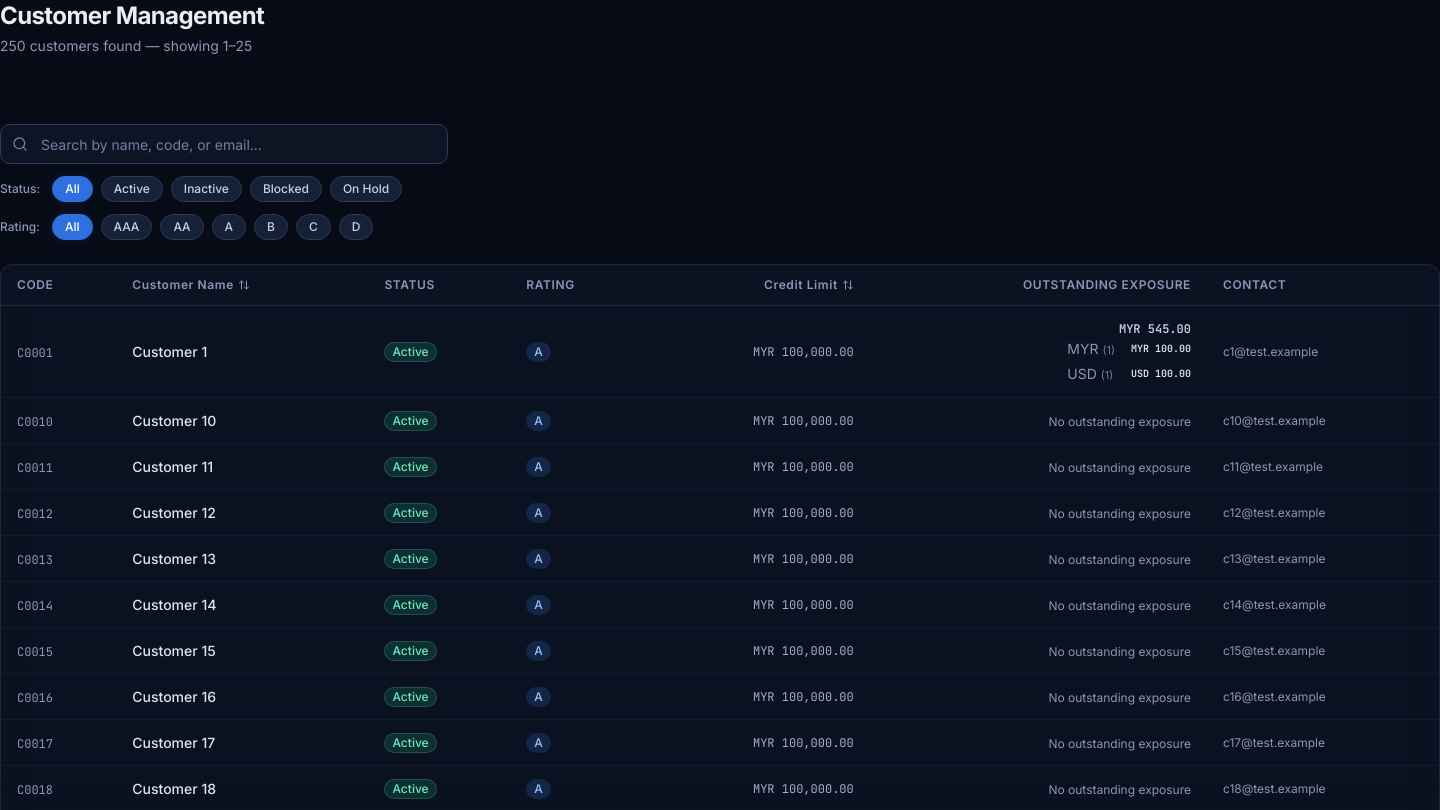
Test case: Customer list — stale-filter safety (B9DD-FR-001) › shows the new authoritative result once the refetch settles
Expected: the link "Customer 1" is shown, [132, 342, 207, 360]
Expected: the text "MYR 545.00" is shown, [1119, 321, 1191, 337]
Type "Zeta" into the field with placeholder "Search by name, code, or email…" at (224, 144), box [0, 124, 448, 164]
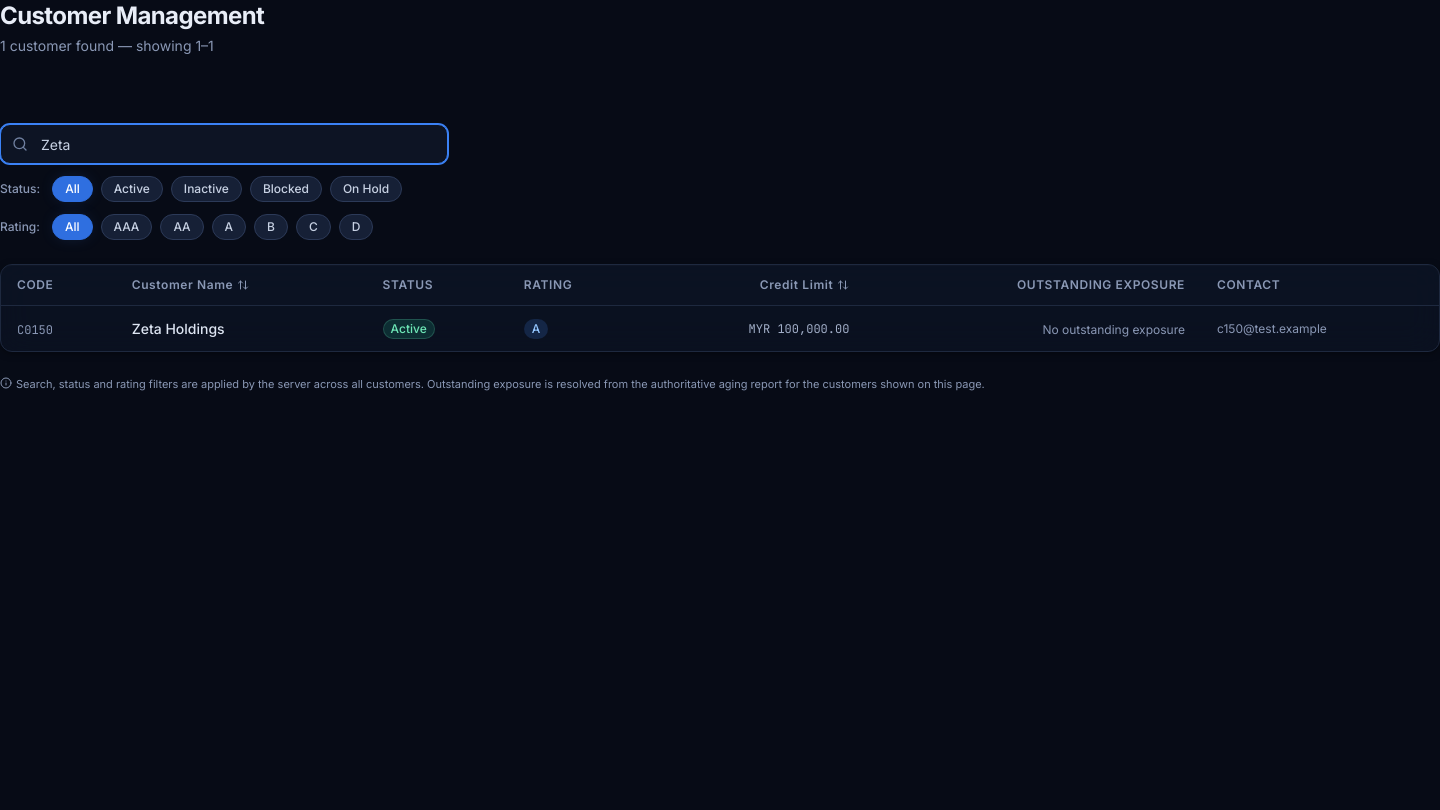
Expected: the link "Zeta Holdings" is shown, [132, 320, 225, 336]
Expected: the link "Customer 1" is gone
Expected: the text "1 customer found — showing 1–1" is shown, [0, 37, 214, 54]
